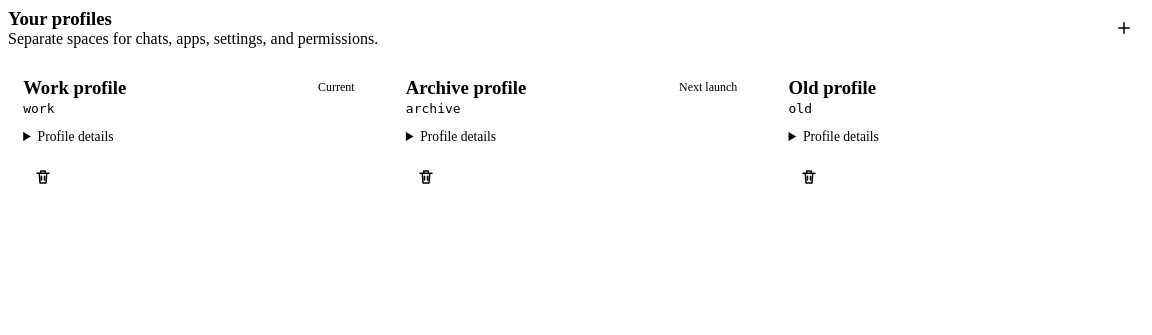
it: distinguishes the runtime profile from the next-launch selection
The width and height of the screenshot is (1152, 335).
Check: the heading "Work profile" is shown, box [23,77,126,99]
Click the heading "Profile details" below "Work profile" at coordinates (76, 136), box [38,129,114,144]
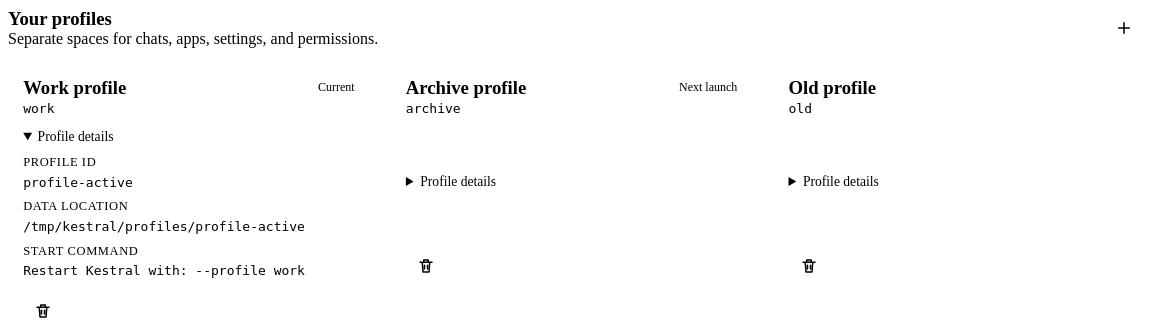
Check: the text "Next launch" is shown, box [679,80,737,94]
Check: the text "Restart Kestral with: --profile work" is shown, box [23,263,305,278]
